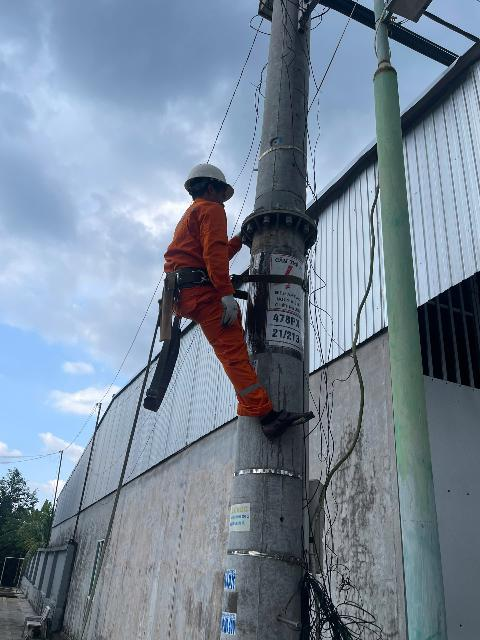gloves: (212, 291, 243, 328)
harness: (153, 263, 236, 290)
helmet: (181, 161, 240, 202)
shoes: (255, 395, 316, 445)
